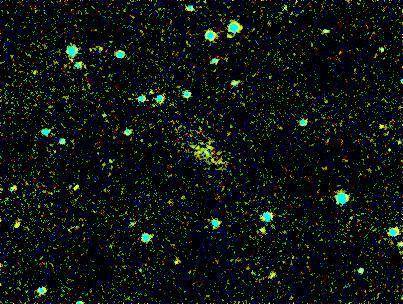star: (4, 210, 34, 240)
